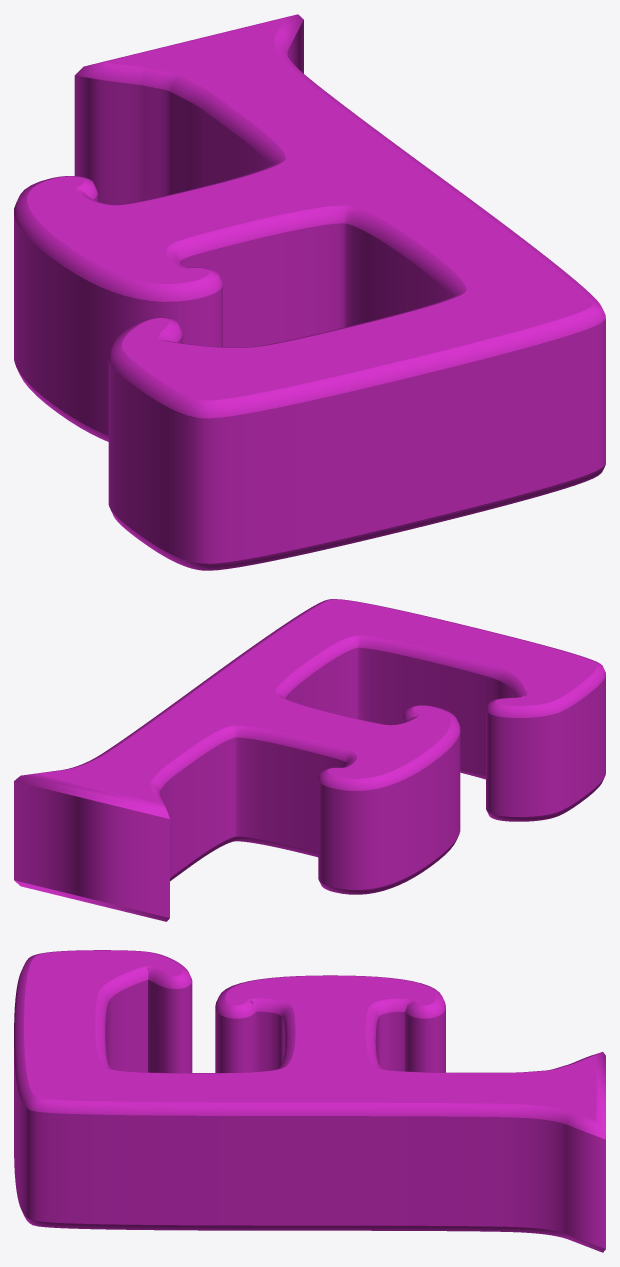
The model's file is Letter_F.fbx.
3 renders of one model, top to bottom at view 1: azimuth 30°, elevation 25°; view 2: azimuth 150°, elevation 25°; view 3: azimuth 270°, elevation 25°, orthographic. The views are drawn at different scales.
Visible parts, largest first — view 1: Letter_F; view 2: Letter_F; view 3: Letter_F.
Part boxes in pixels (<box>): Letter_F: <box>14,14,605,570</box>; Letter_F: <box>14,599,605,921</box>; Letter_F: <box>14,950,605,1252</box>.
Size of the model in its own units: 0.4336 by 0.14 by 0.5882.
